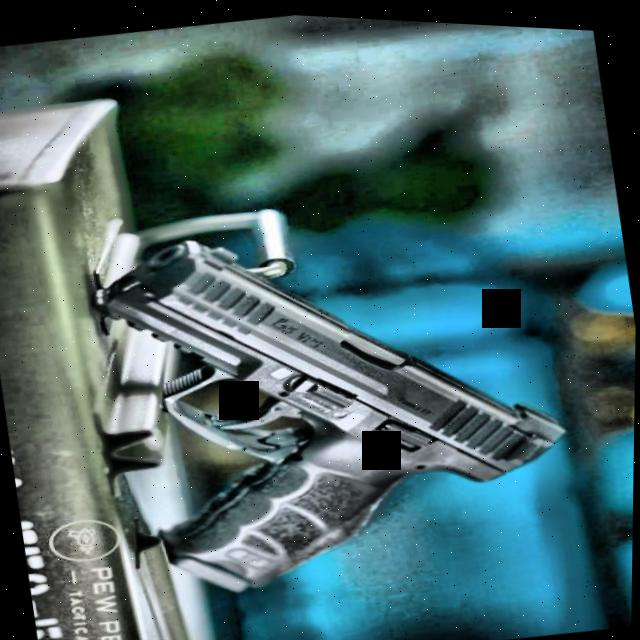HKVP9: (76, 158, 592, 622)
